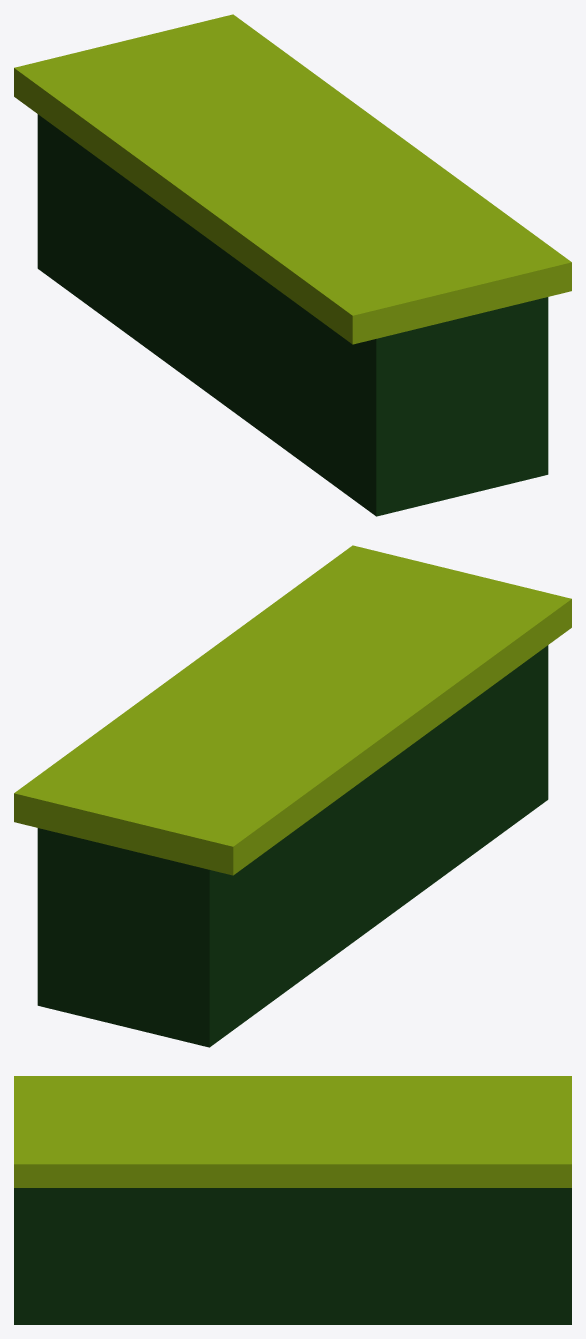
File: counter.obj
The picture shows the model from 3 angles, top to bottom: view 1: azimuth 30°, elevation 25°; view 2: azimuth 150°, elevation 25°; view 3: azimuth 270°, elevation 25°; orthographic projection. The views are drawn at different scales.
Visible parts, largest first — view 1: Cube; view 2: Cube; view 3: Cube.
Part boxes in pixels (box(x1,y1,x2,y2)): Cube: box(14, 14, 571, 516); Cube: box(14, 545, 571, 1047); Cube: box(14, 1076, 571, 1324).
Bounding box in the file's own units: 0.3737 × 0.3365 × 1.
